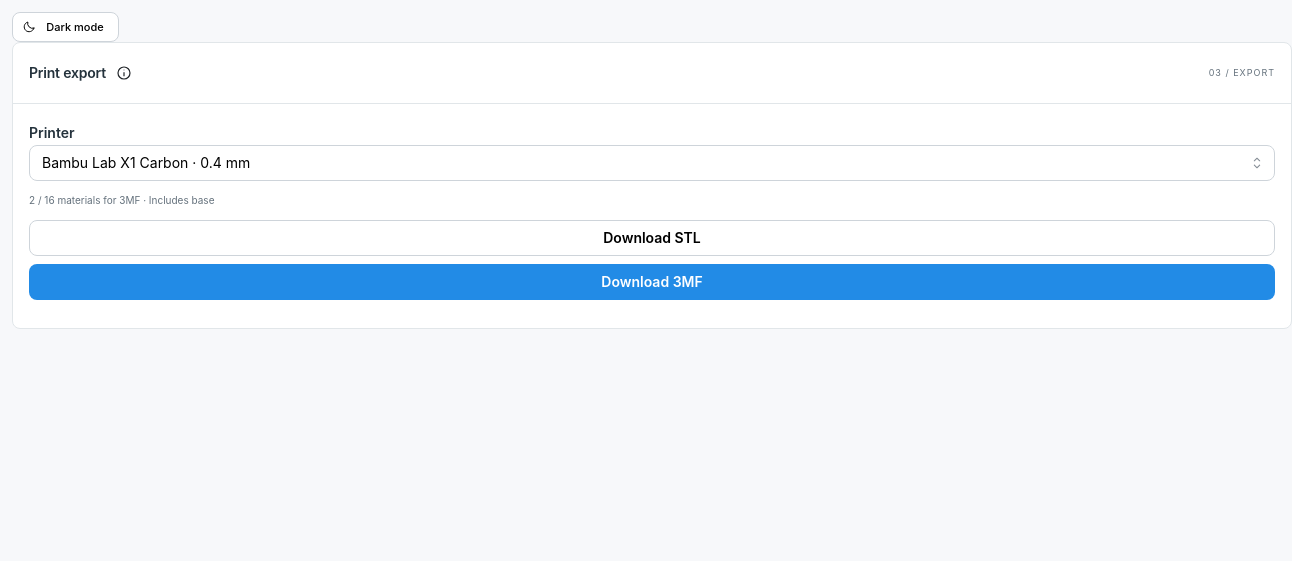
Test case: export panel › does not declare availability when the estimate reaches zero
The image size is (1292, 561).
Click the button "Download STL".
click(652, 238)  # box [29,220,1275,256]
Wait 1000 ms
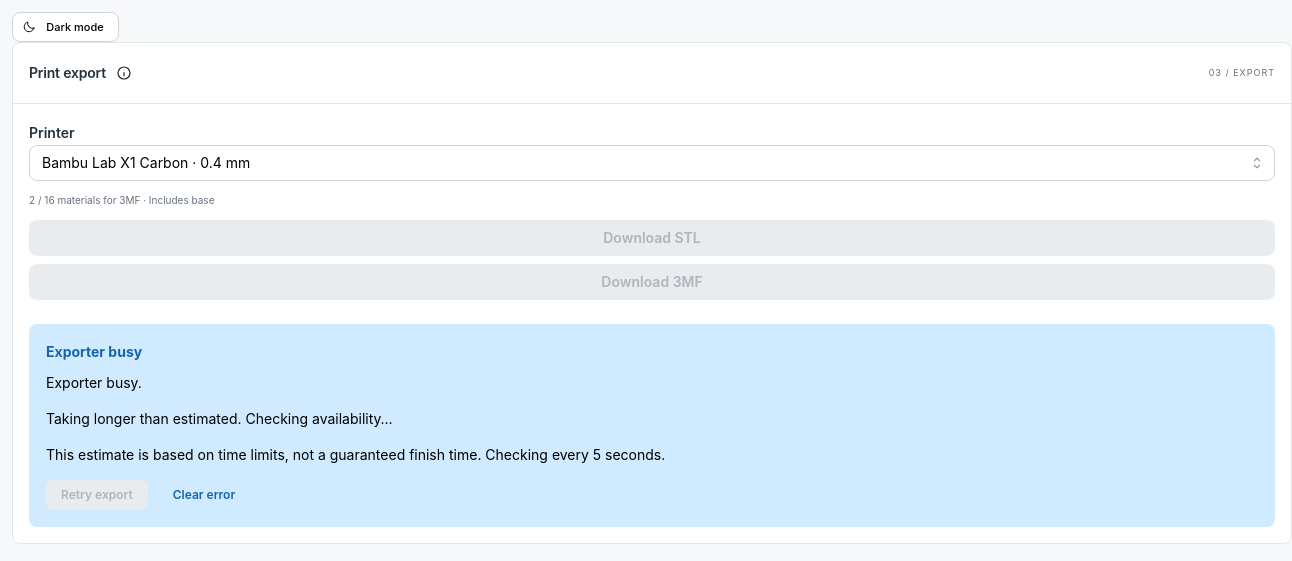
Expected: the message shows "Taking longer than estimated", [46,410,392,427]
Expected: the button "Retry export" is disabled, [46,480,148,510]
